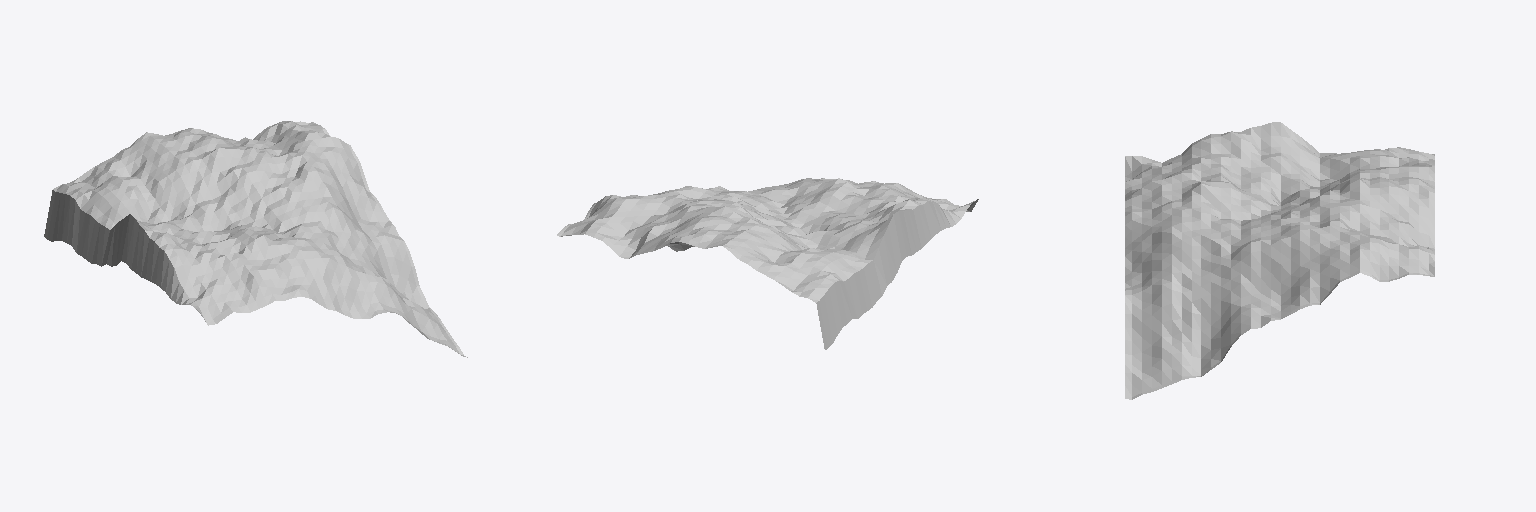
Rendered from heightmap.005.obj.
3 views of the same model, side by side, from view 1: azimuth 30°, elevation 25°; view 2: azimuth 150°, elevation 25°; view 3: azimuth 270°, elevation 25° (orthographic).
Visible parts, largest first — view 1: heightmap.005_Plane.005; view 2: heightmap.005_Plane.005; view 3: heightmap.005_Plane.005.
Part boxes in pixels (left/top/right/bottom): heightmap.005_Plane.005: left=44, top=121, right=467, bottom=357; heightmap.005_Plane.005: left=557, top=178, right=978, bottom=349; heightmap.005_Plane.005: left=1125, top=122, right=1434, bottom=399.
Size of the model in its own units: 32 by 17.8 by 32.